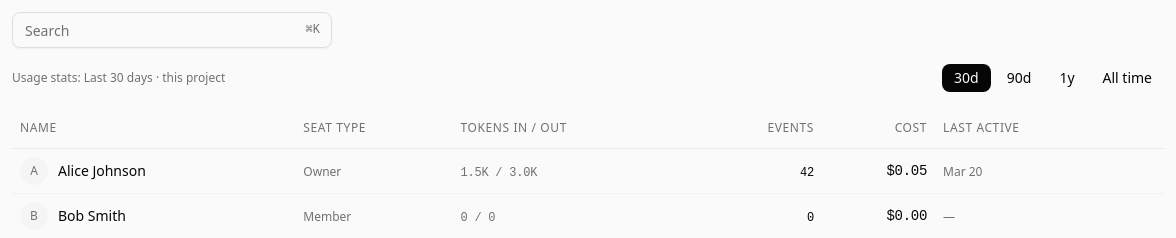
Test: ProjectMembersTab › owner view (isProjectOwner=true) › filters members by name when searching
The image size is (1176, 238).
Type "alice" into the field with placeholder "Search" at x=172, y=30, box [12,12,332,48]
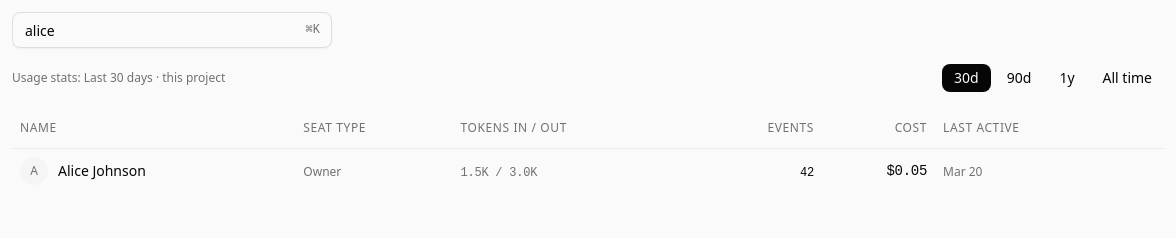
Expected: the text "Alice Johnson" is shown, [58,160,146,181]
Result: the text "Bob Smith" is gone
